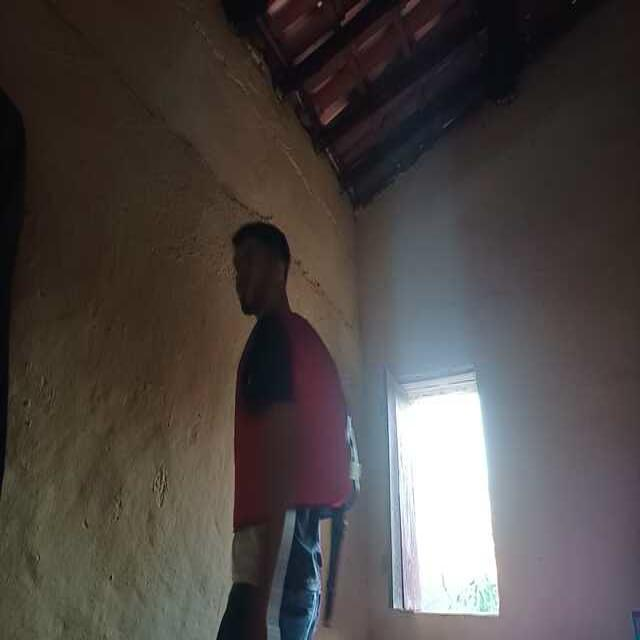colete: (216, 292, 385, 494)
pessoa: (204, 214, 362, 640)
